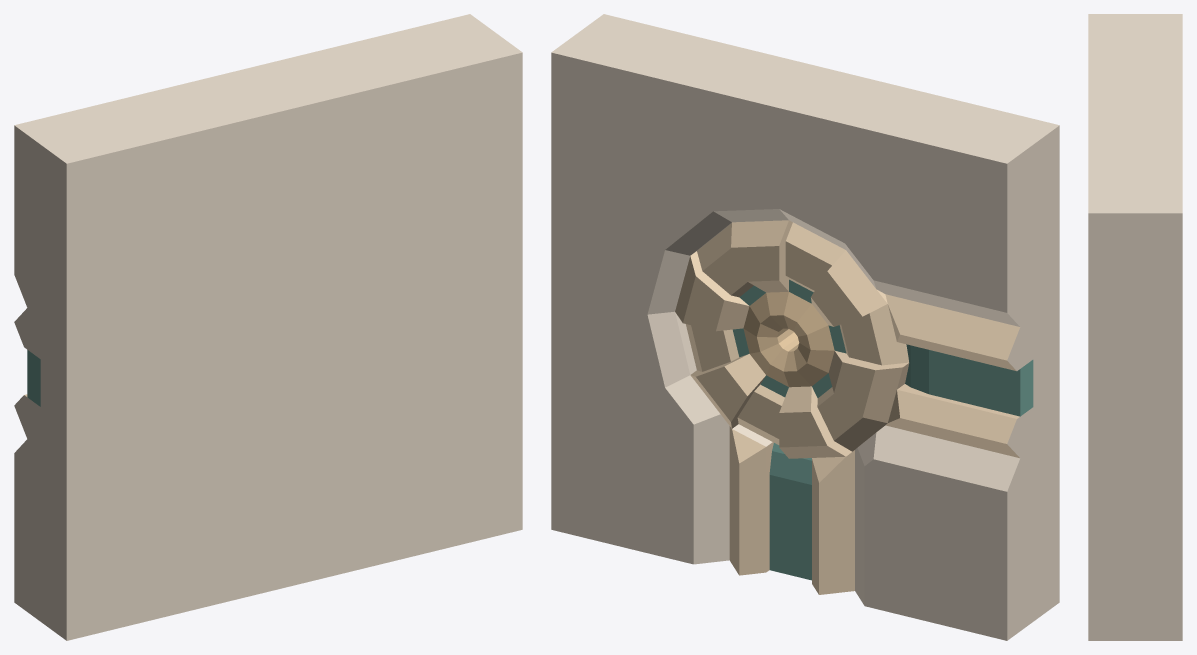
The model's file is Puzzle_Wall_Conduit_Emitter_Corner.glb.
3 renders of one model, left to right at view 1: azimuth 30°, elevation 25°; view 2: azimuth 150°, elevation 25°; view 3: azimuth 270°, elevation 25°, orthographic. The views are drawn at different scales.
Visible parts, largest first — view 1: Puzzle_Wall_Conduit_Emitter_Corner; view 2: Puzzle_Wall_Conduit_Emitter_Corner; view 3: Puzzle_Wall_Conduit_Emitter_Corner.
Part boxes in pixels (box(x1,y1,x2,y2)): Puzzle_Wall_Conduit_Emitter_Corner: box(14, 14, 522, 640); Puzzle_Wall_Conduit_Emitter_Corner: box(551, 14, 1059, 640); Puzzle_Wall_Conduit_Emitter_Corner: box(1088, 14, 1182, 640).
Bounding box in the file's own units: 1 × 1 × 0.2.
